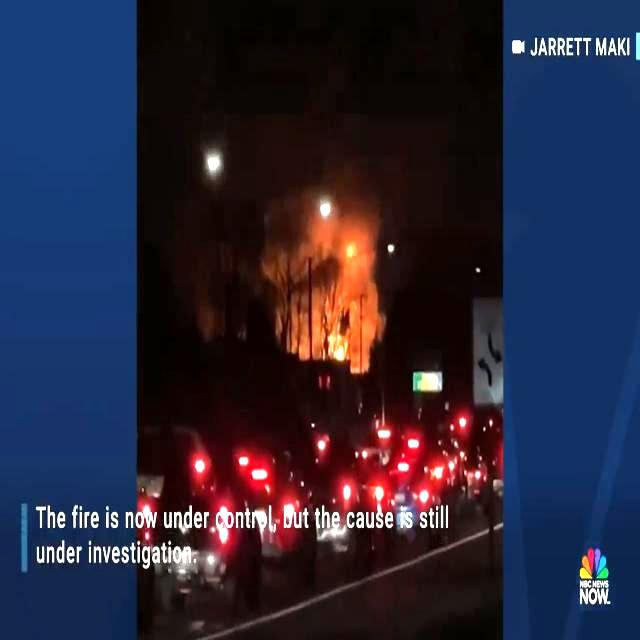fire: (272, 210, 386, 378)
